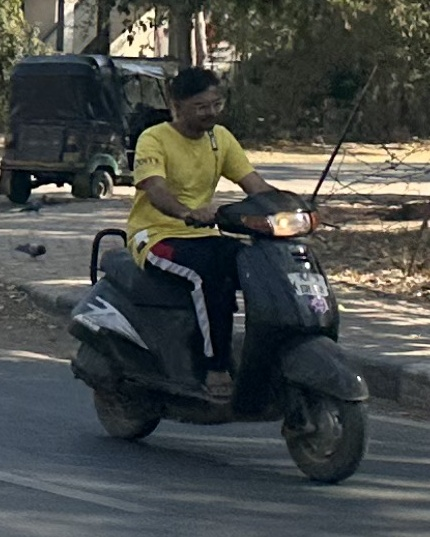BikeWithRider: (59, 58, 378, 488)
NoHelmet: (160, 62, 233, 135)
